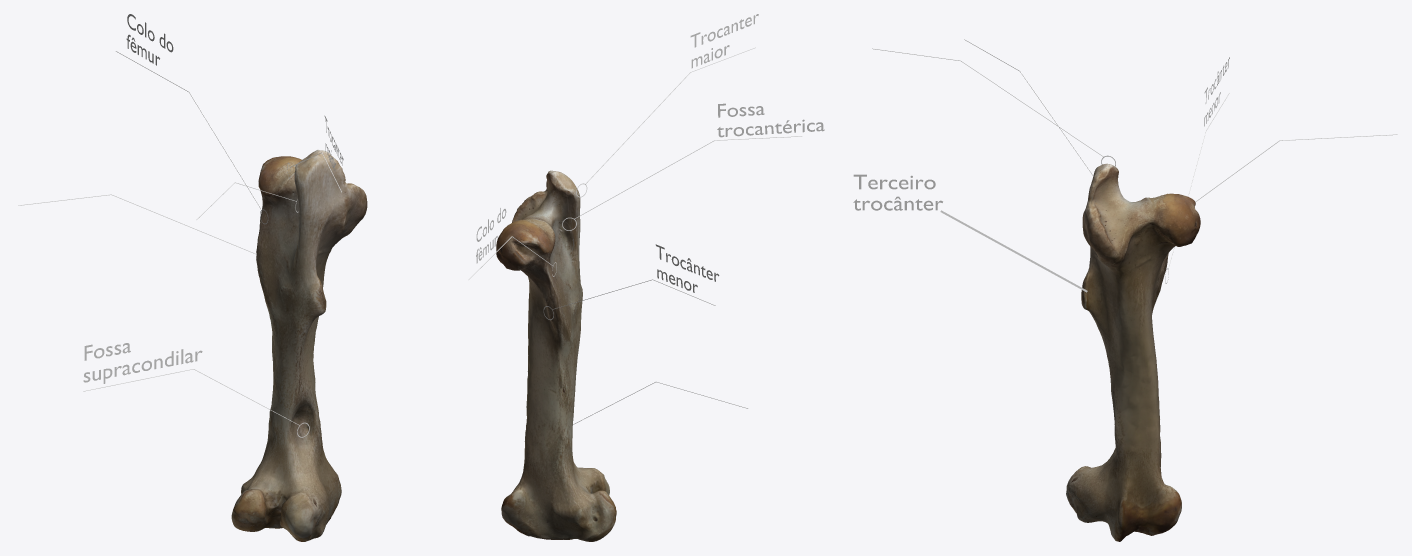
Rendered from Femur-editado_modelo-teste.3.glb.
The picture shows the model from 3 angles, left to right: view 1: azimuth 30°, elevation 25°; view 2: azimuth 150°, elevation 25°; view 3: azimuth 270°, elevation 25°; orthographic projection. The views are drawn at different scales.
Visible parts, largest first — view 1: Mesh_0, Texto.002, Texto.004; view 2: Mesh_0, Texto.005, Texto.006, Texto.003; view 3: Mesh_0, Texto.001.
Part boxes in pixels (x1,y1,x2,y2): Mesh_0: (231, 150, 367, 541); Texto.002: (83, 343, 202, 383); Texto.004: (126, 14, 173, 65); Mesh_0: (496, 170, 616, 541); Texto.005: (717, 103, 824, 137); Texto.006: (690, 14, 758, 68); Texto.003: (655, 244, 719, 292); Mesh_0: (1066, 163, 1200, 541); Texto.001: (853, 174, 942, 210).
Size of the model in its own units: 1.5 by 2.47 by 2.52.
6 materials, 1 textured.
